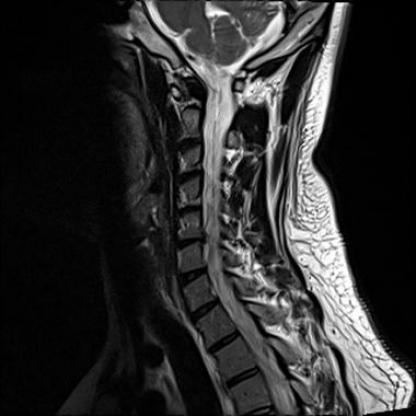Disc Bulgerotation: (174, 232, 205, 253)
